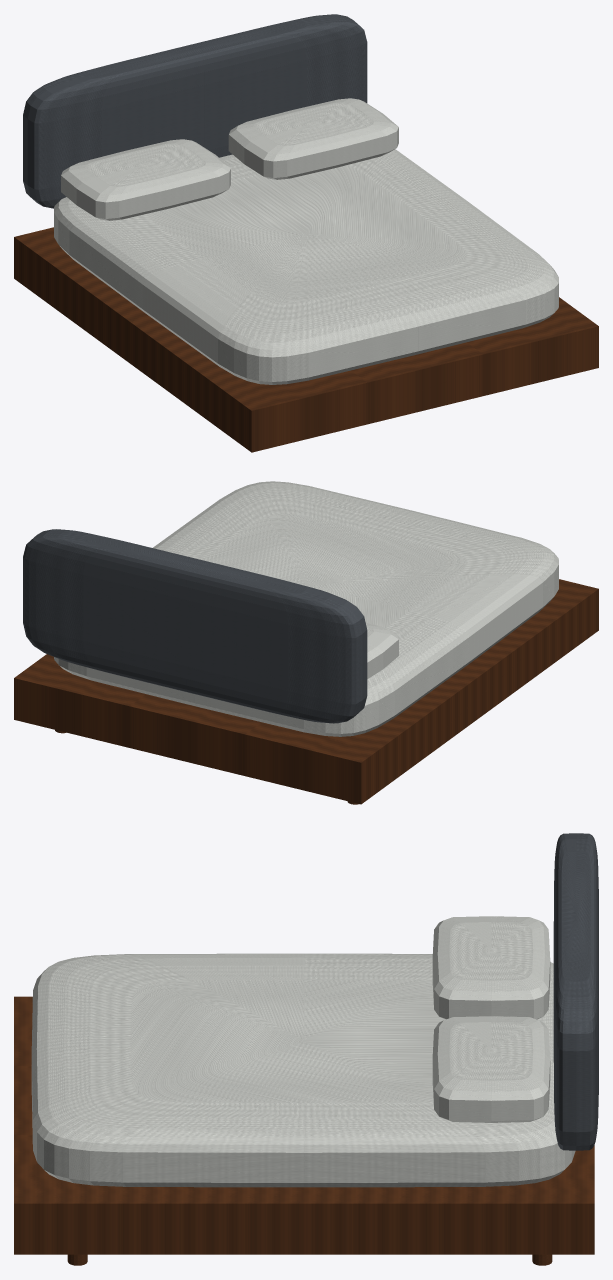
The model's file is bed-160_lod1.glb.
3 renders of one model, top to bottom at view 1: azimuth 30°, elevation 25°; view 2: azimuth 150°, elevation 25°; view 3: azimuth 270°, elevation 25°, orthographic. The views are drawn at different scales.
Visible parts, largest first — view 1: mattress, frame, headboard, pillow_2, pillow_1; view 2: mattress, headboard, frame, pillow_1; view 3: mattress, frame, headboard, pillow_2, pillow_1.
Boxes of the visible parts, x1,y1,x2,y2 form: mattress: (54,149,558,384); frame: (14,227,598,452); headboard: (23,14,367,208); pillow_2: (228,98,398,179); pillow_1: (61,139,230,220); mattress: (54,481,558,736); headboard: (23,529,367,723); frame: (14,579,598,804); pillow_1: (366,623,398,678); mattress: (31,953,575,1187); frame: (14,996,594,1254); headboard: (553,833,598,1150); pillow_2: (432,1016,550,1122); pillow_1: (432,916,550,1019).
Size of the model in its own units: 1.8 by 1.05 by 2.15.
Materials: 3 (3 with a texture image).
